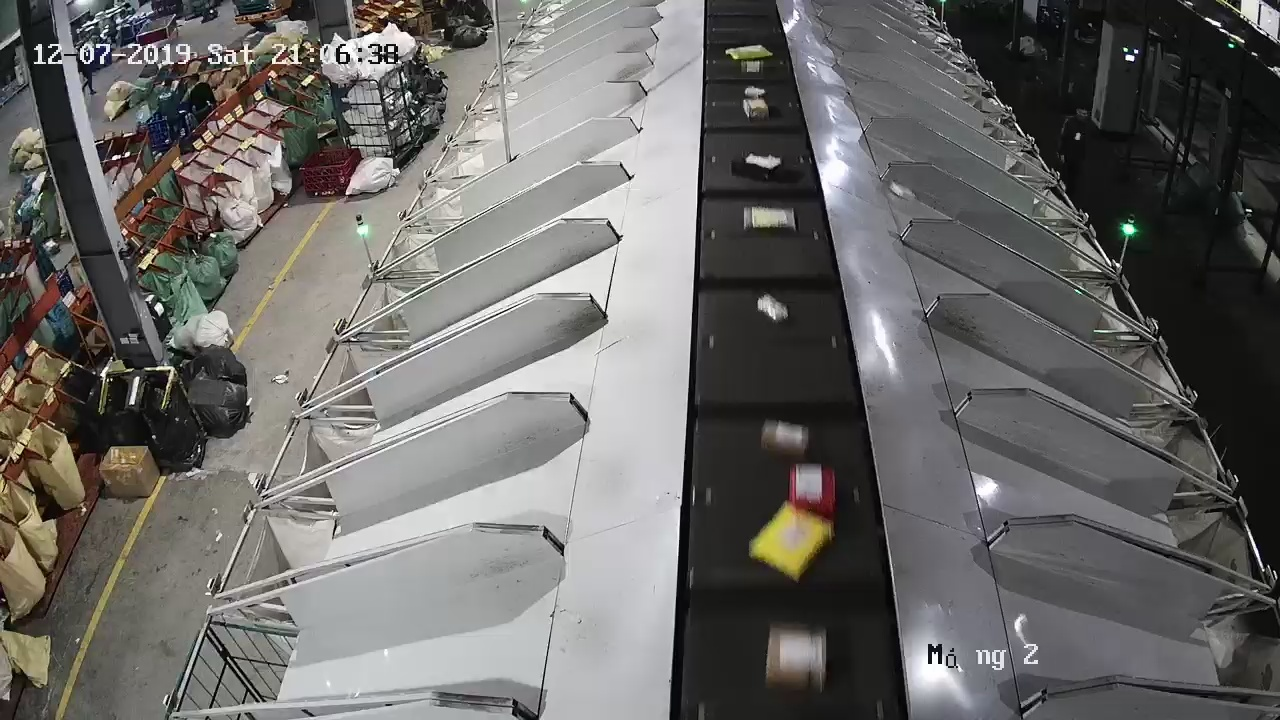parcel: (888, 180, 916, 202)
